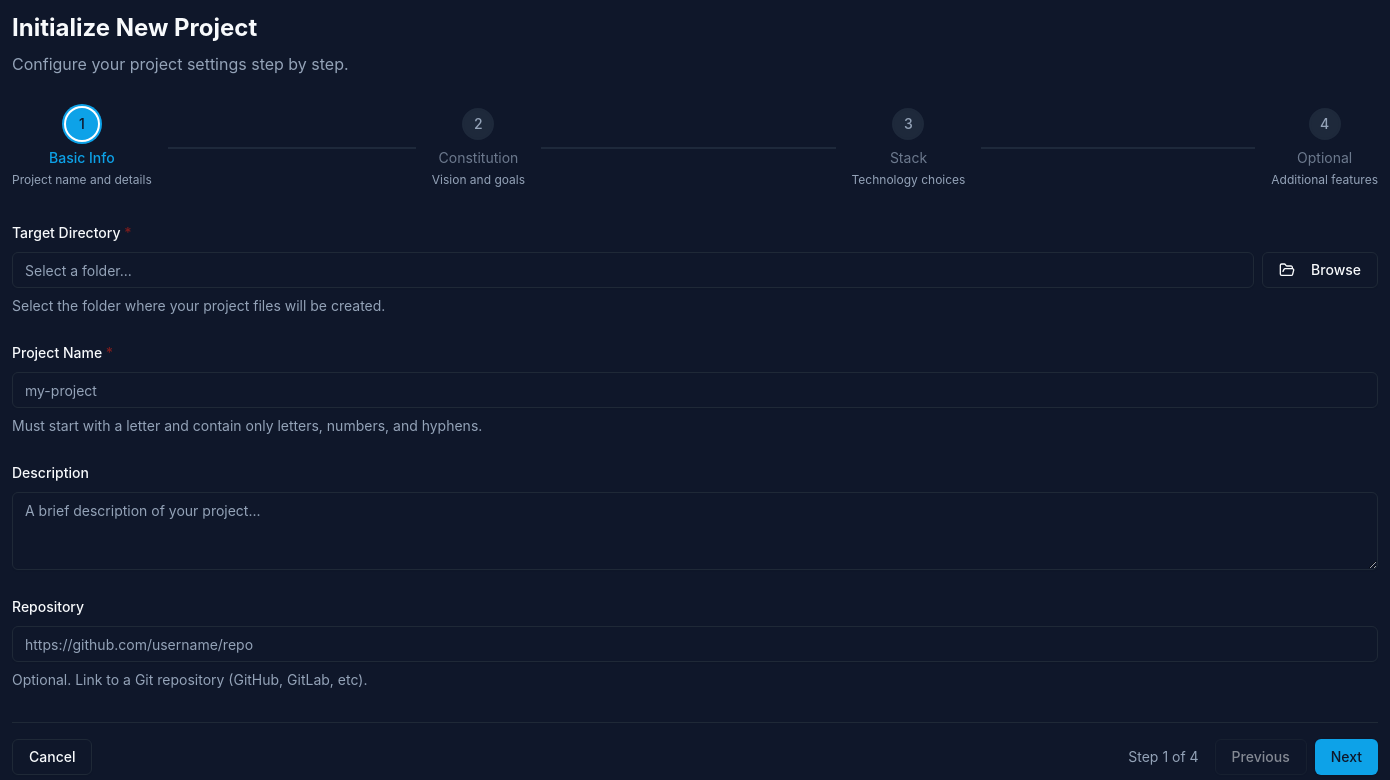
Test case: ProjectWizard Scaffolding Integration › ScaffoldingProgress Component Display › should show ScaffoldingProgress component when scaffolding starts
Click the button "Browse" at x=1320, y=270, box [1262, 252, 1378, 288]
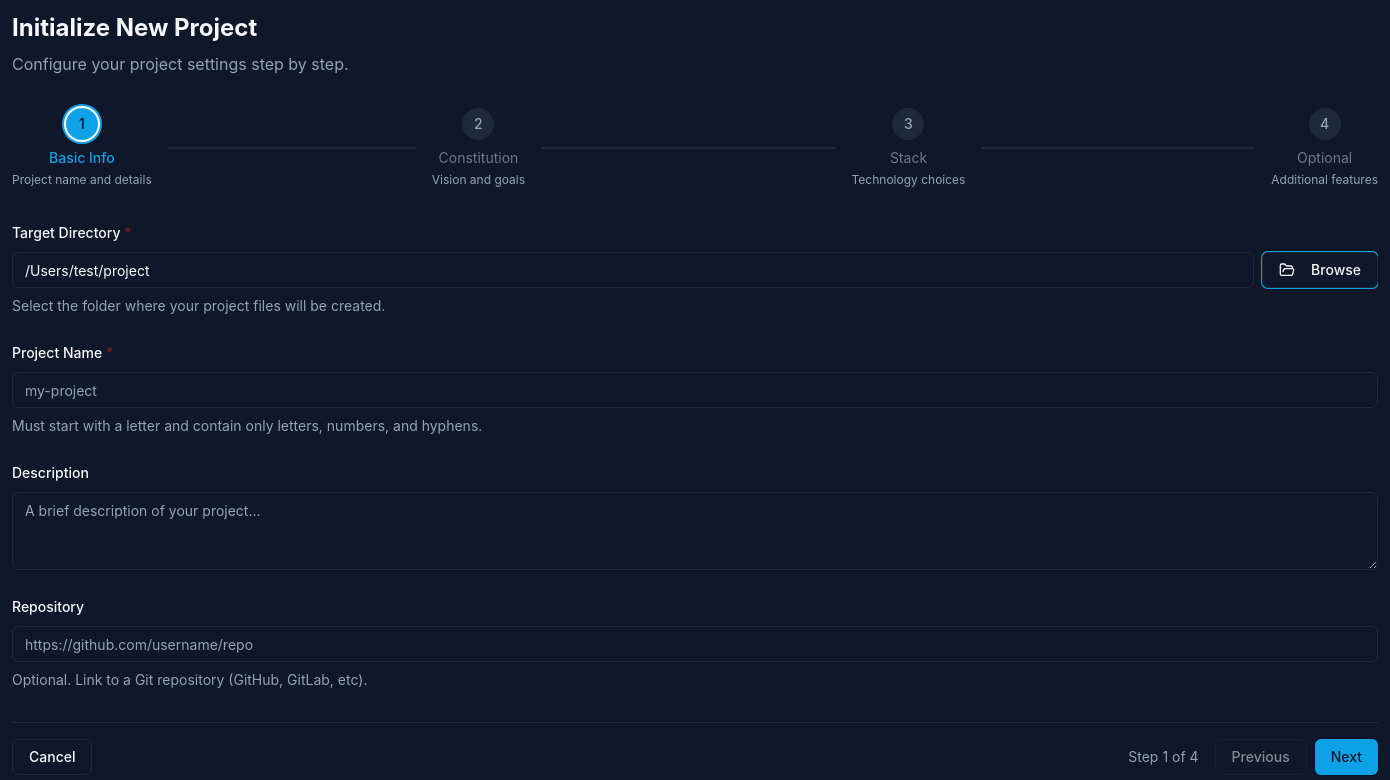
Type "TestProject" into the field labelled "Project Name *" at x=695, y=390, box [12, 372, 1378, 408]
Type "Test description" into the text box labelled "Description" at x=695, y=531, box [12, 492, 1378, 570]
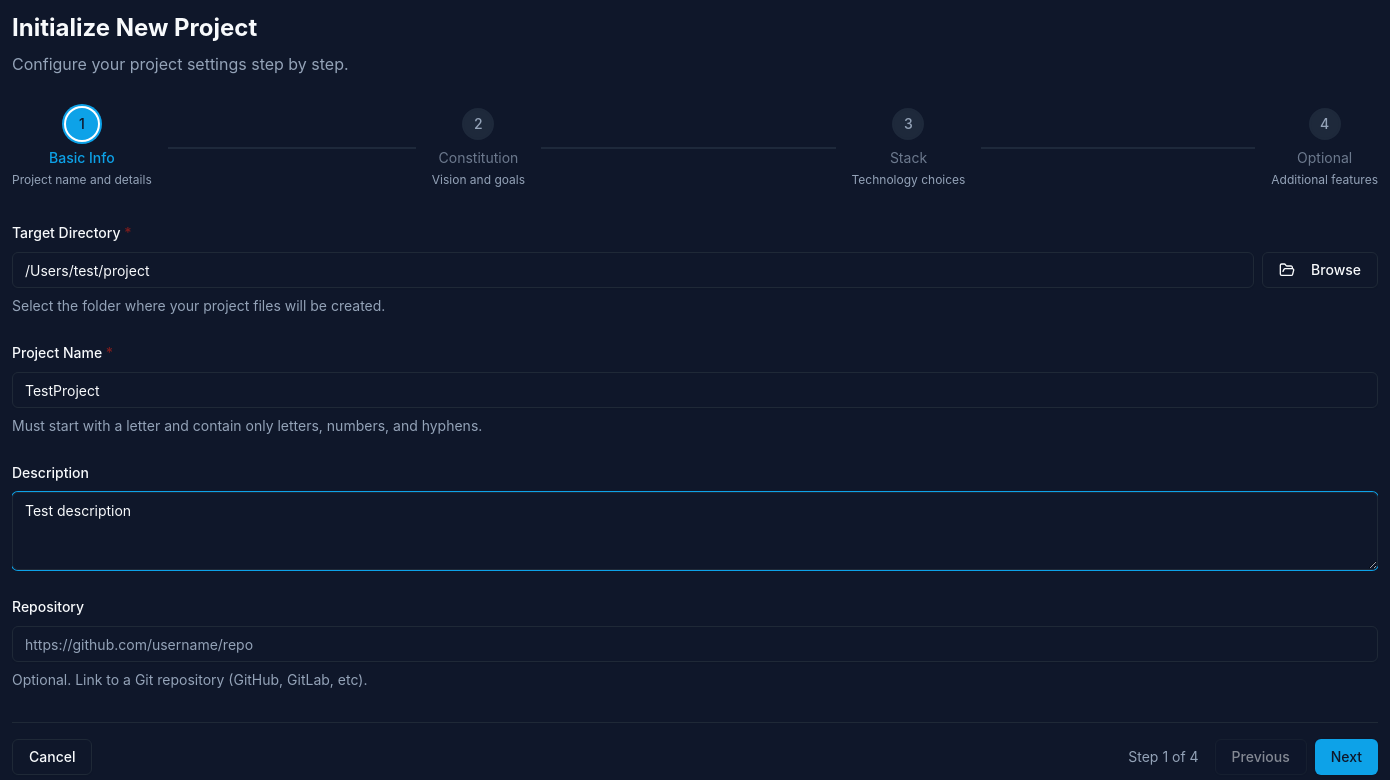
Click the button "Next" at x=1346, y=757, box [1315, 739, 1378, 775]
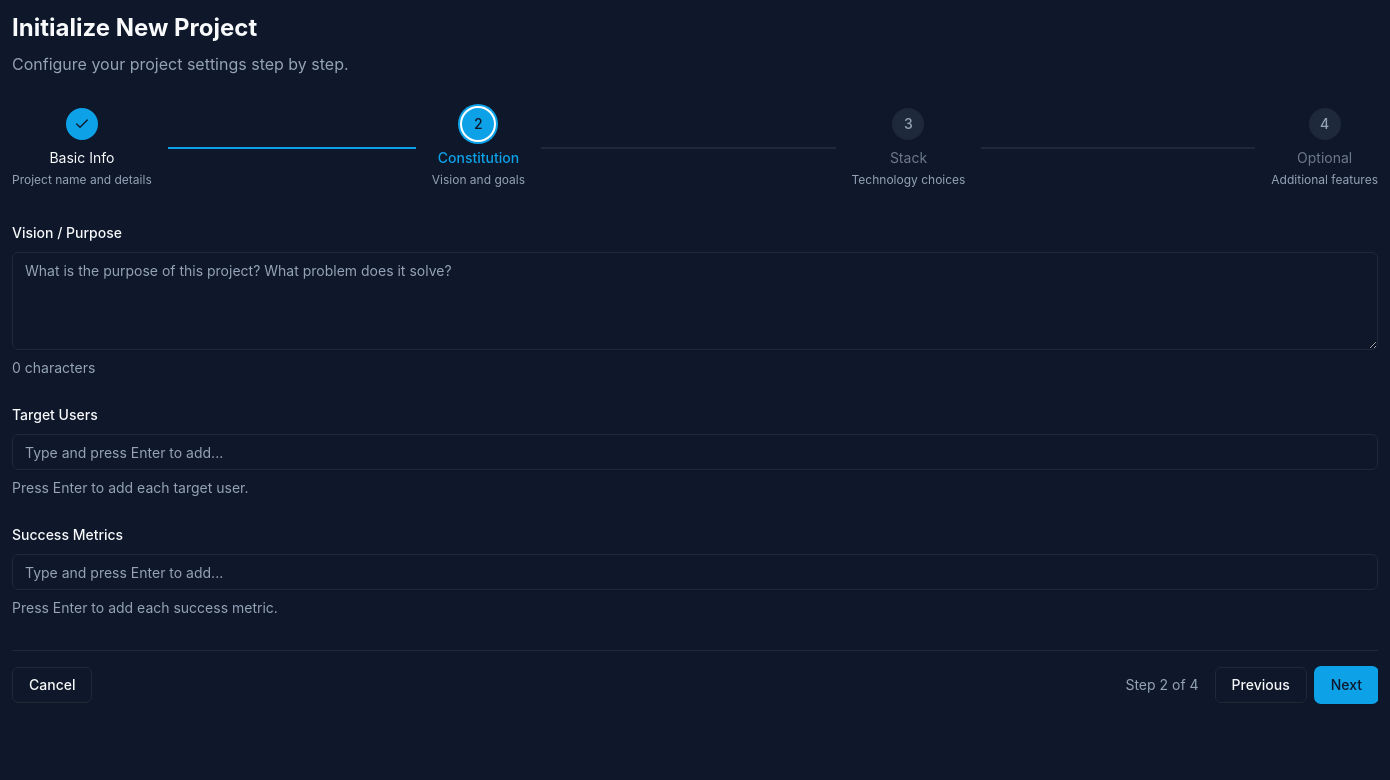
Expected: the element with test id "constitution-step" is shown, [12, 220, 1378, 618]
Click the button "Next" at x=1346, y=685, box [1315, 667, 1378, 703]
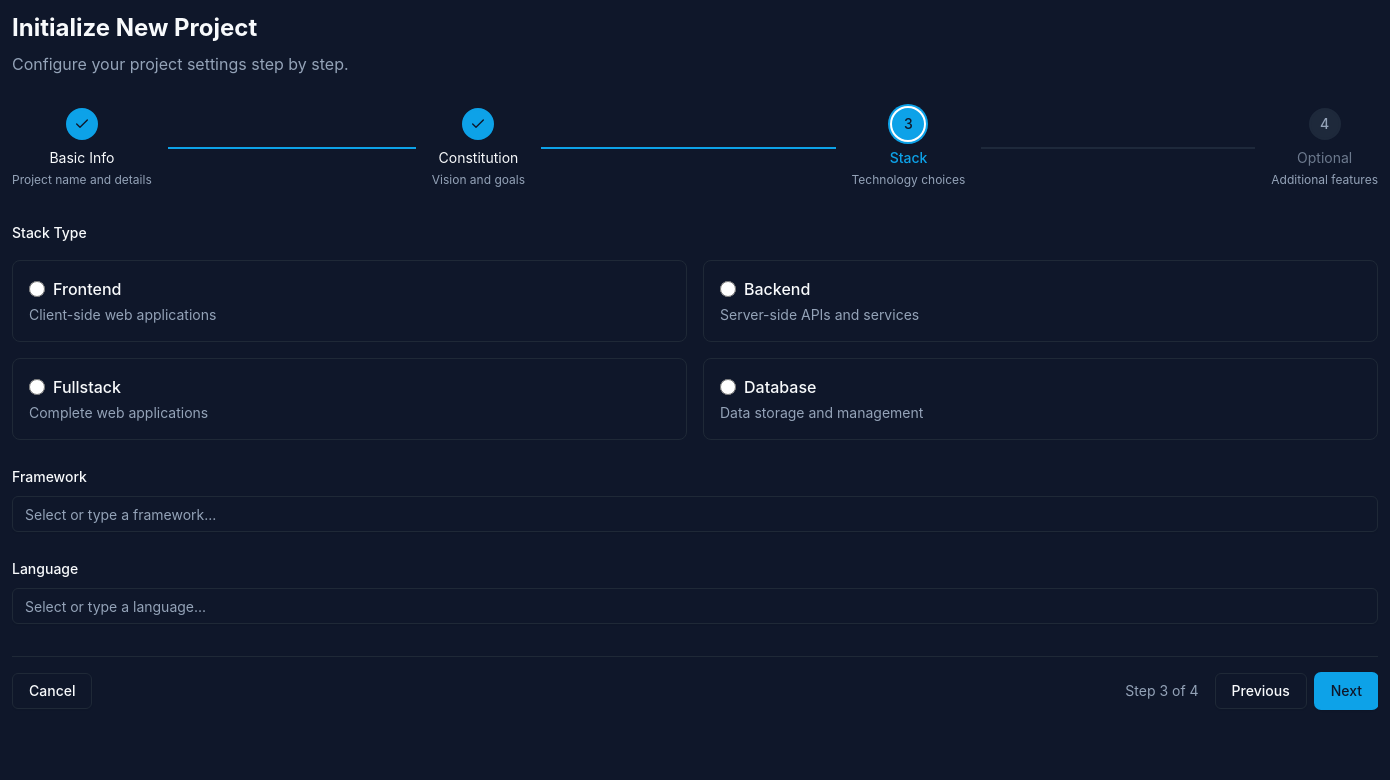
Expected: the element with test id "stack-selection-step" is shown, [12, 220, 1378, 624]
Click the button "Next" at x=1346, y=691, box [1315, 673, 1378, 709]
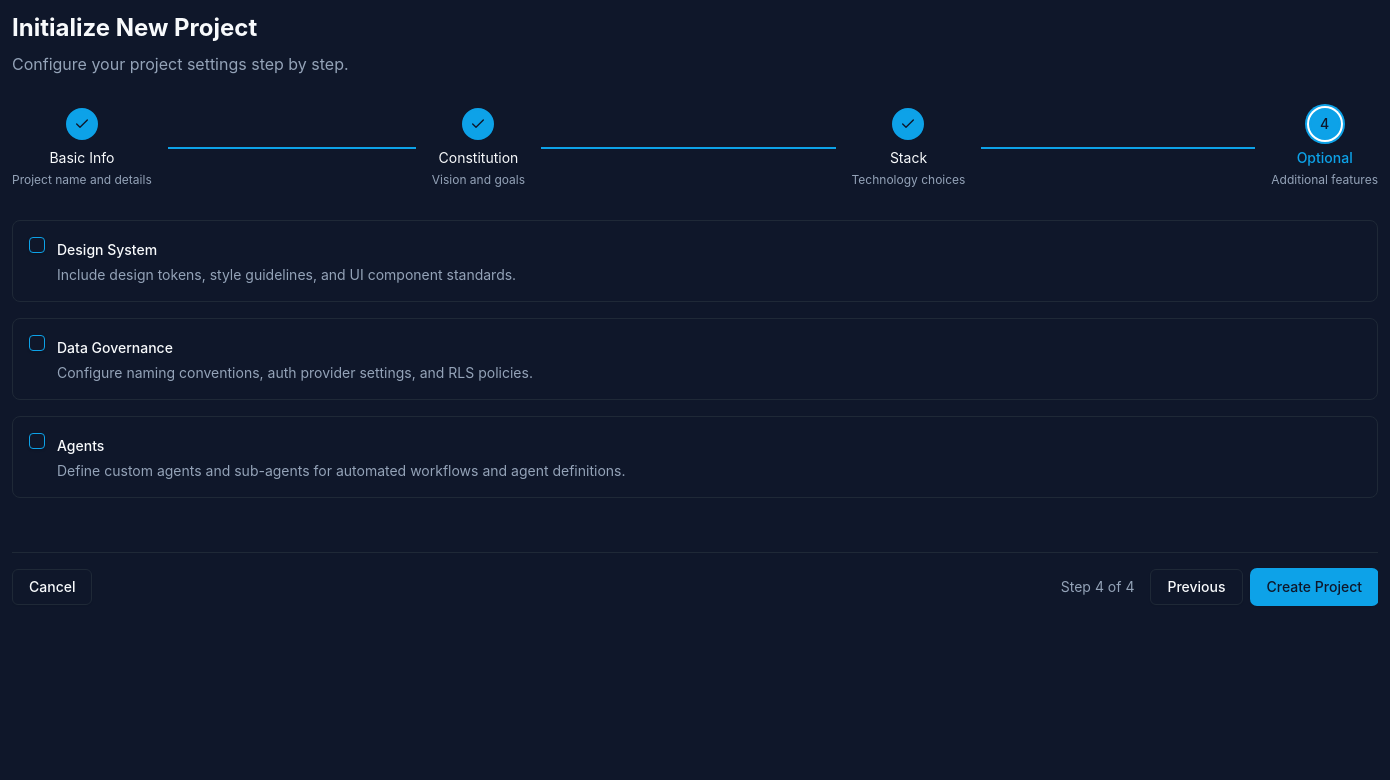
Expected: the element with test id "optional-sections-step" is shown, [12, 220, 1378, 498]
Click the button "Create Project" at x=1314, y=587, box [1250, 569, 1378, 605]
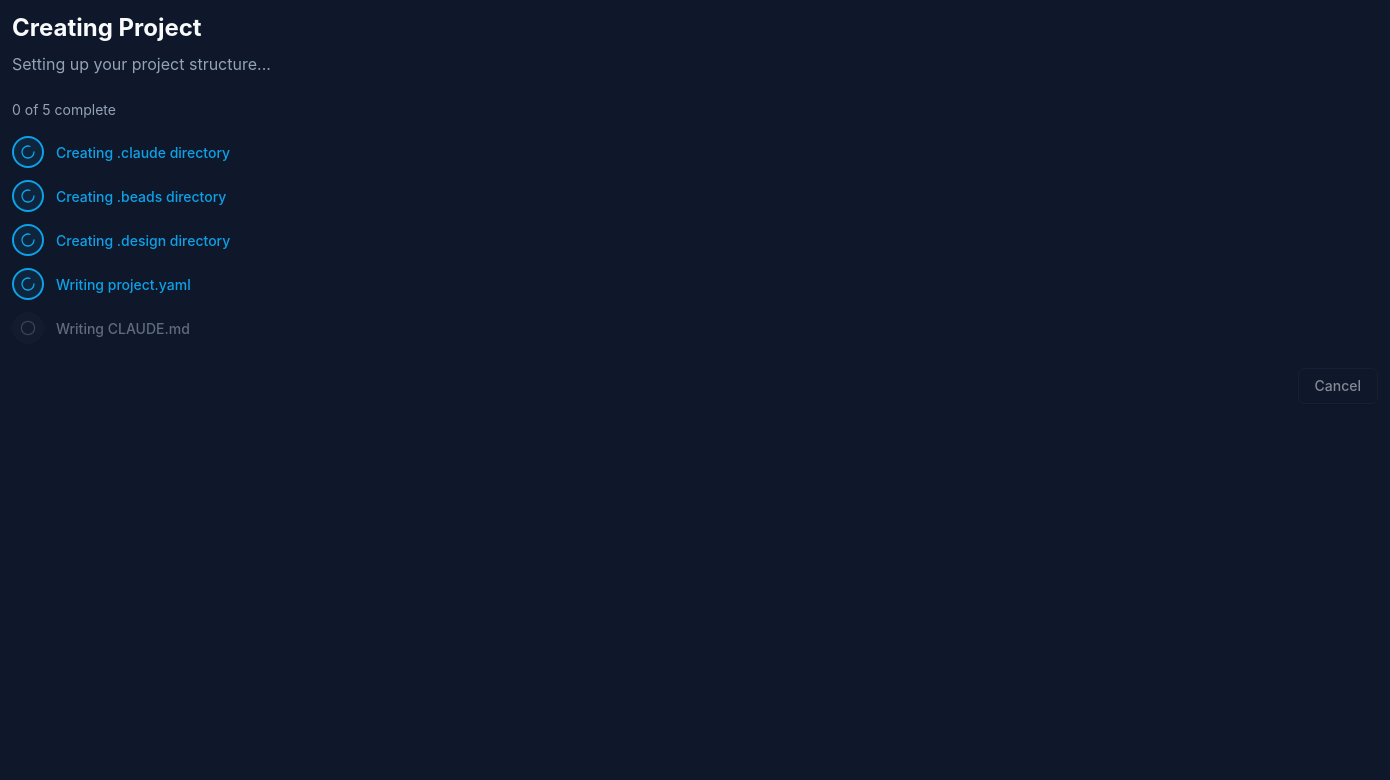
Expected: the element with test id "scaffolding-progress" is shown, [12, 101, 230, 344]
